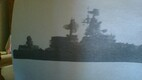tau_muctieu: (13, 8, 142, 65)
